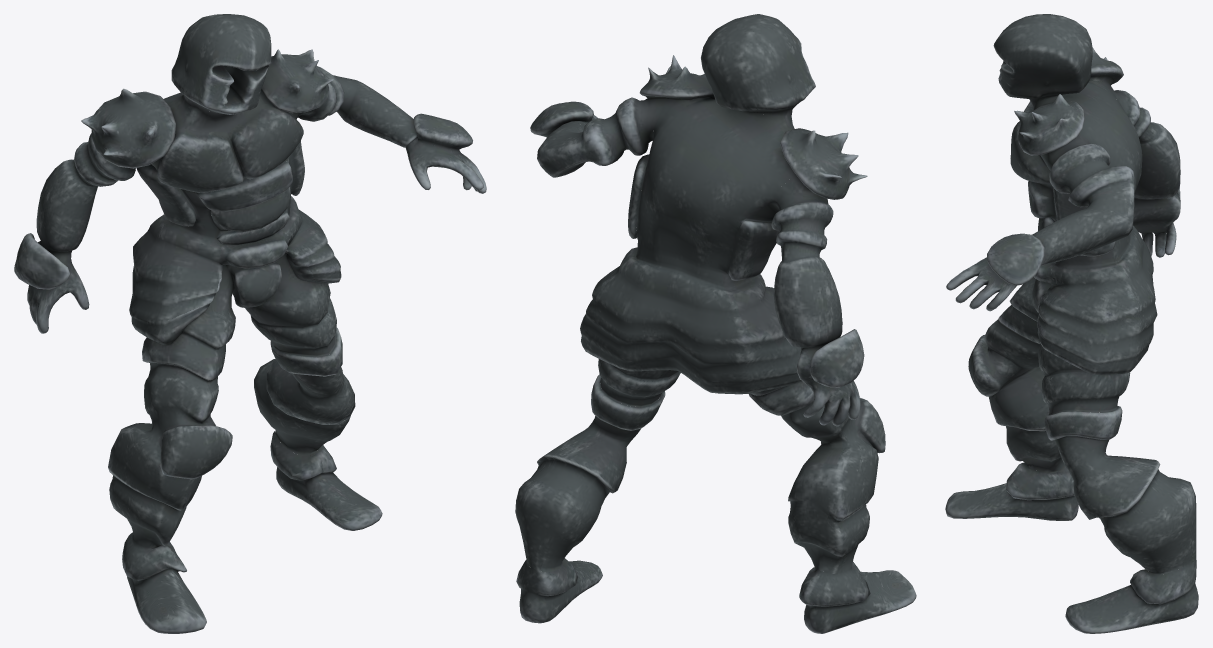
Rendered from Animated Armor.glb.
3 renders of one model, left to right at view 1: azimuth 30°, elevation 25°; view 2: azimuth 150°, elevation 25°; view 3: azimuth 270°, elevation 25°, orthographic. The views are drawn at different scales.
Parts seen in each view (by area): view 1: Body.007, Body.006; view 2: Body.007, Body.006; view 3: Body.007, Body.006.
Boxes of the visible parts, bbox=[...] form: Body.007: bbox=[108, 49, 486, 548]; Body.006: bbox=[14, 14, 417, 633]; Body.007: bbox=[515, 55, 885, 573]; Body.006: bbox=[516, 14, 916, 633]; Body.007: bbox=[946, 80, 1196, 574]; Body.006: bbox=[945, 14, 1198, 633].
Size of the model in its own units: 0.6386 by 0.8896 by 0.3807.
2 materials, 2 textured.
